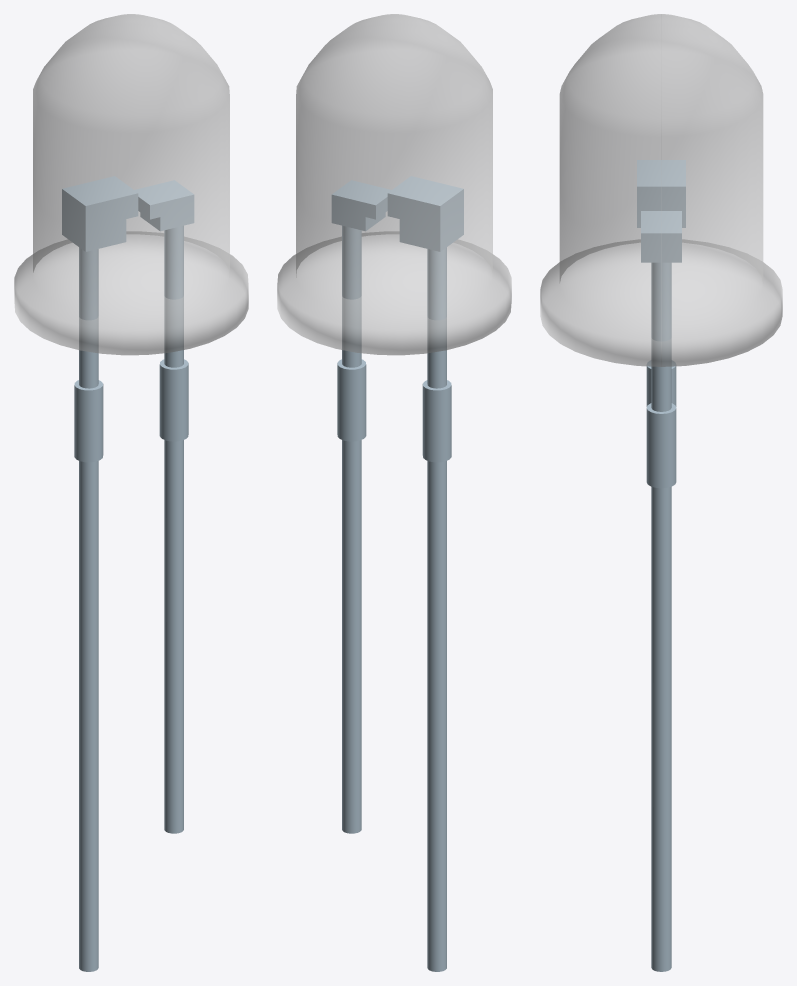
File: LED.fbx
3 views of the same model, side by side, from view 1: azimuth 30°, elevation 25°; view 2: azimuth 150°, elevation 25°; view 3: azimuth 270°, elevation 25° (orthographic). The views are drawn at different scales.
Visible parts, largest first — view 1: LED; view 2: LED; view 3: LED.
Boxes of the visible parts, x1=… form: LED: x1=14, y1=14, x2=248, y2=971; LED: x1=277, y1=14, x2=511, y2=971; LED: x1=540, y1=14, x2=782, y2=971.
Bounding box in the file's own units: 1.19 × 5.24 × 1.19.
